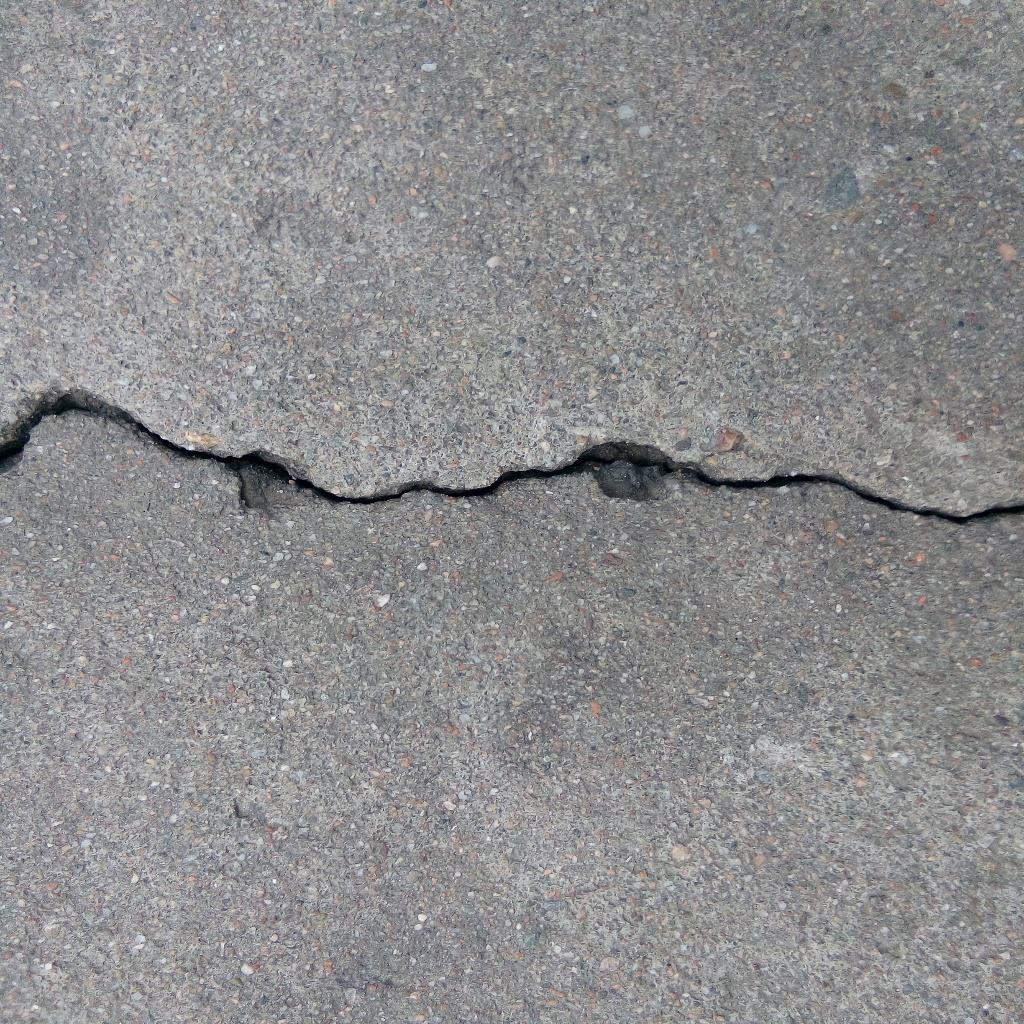Crack: (1, 382, 1024, 527)
